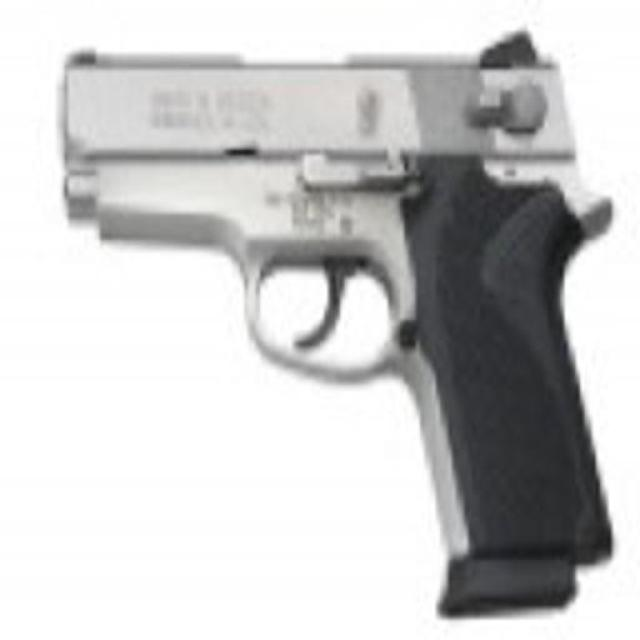pistol: (64, 31, 624, 617)
